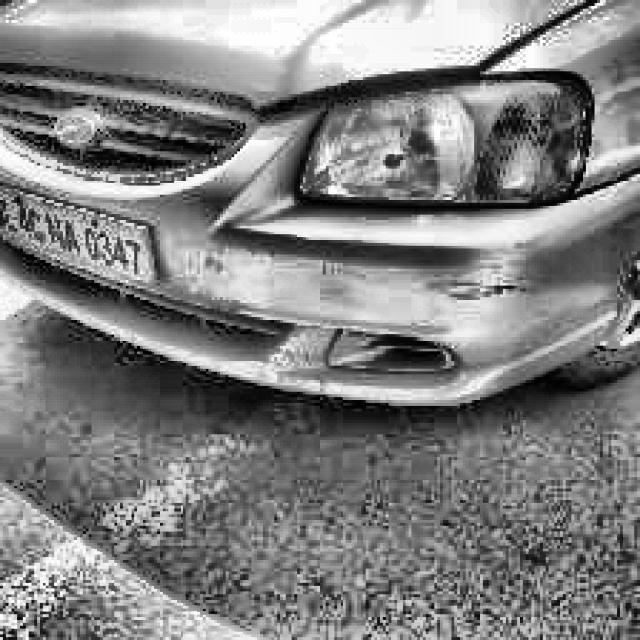bumper_scratch: (188, 240, 353, 291), (428, 265, 530, 318), (292, 333, 335, 377)
